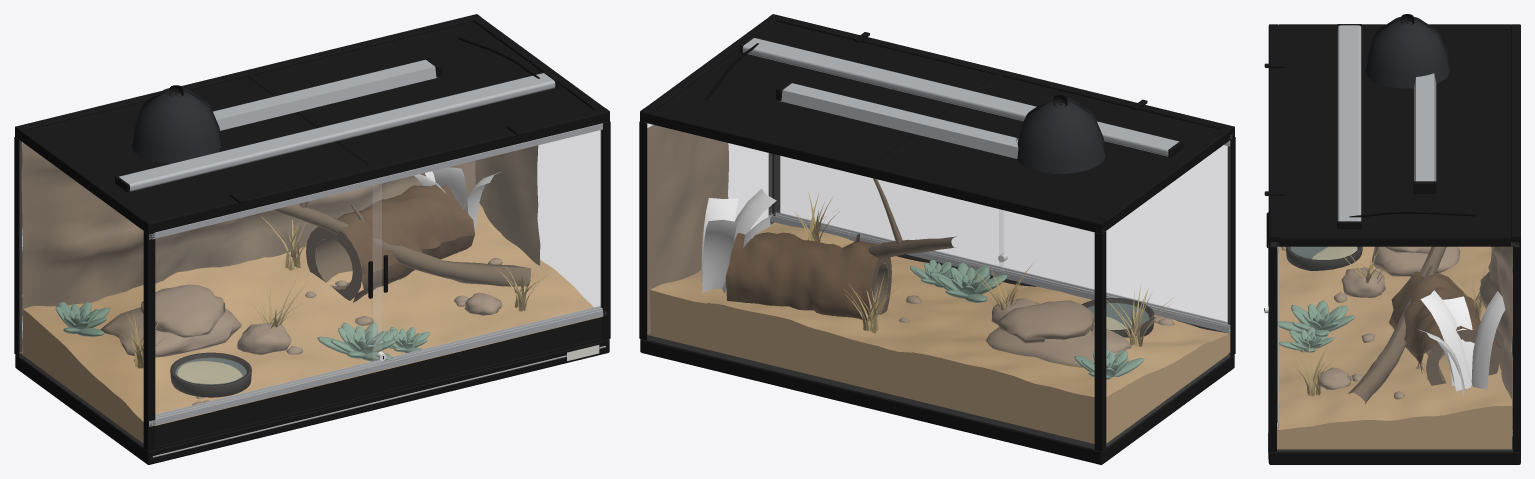
Rendered from terrarium_arid.glb.
3 views of the same model, side by side, from view 1: azimuth 30°, elevation 25°; view 2: azimuth 150°, elevation 25°; view 3: azimuth 270°, elevation 25° (orthographic). The views are drawn at different scales.
Parts seen in each view (by area): view 1: terrarium_arid__glass__noshadow, terrarium_arid__sand__noshadow, terrarium_arid__rock__noshadow, terrarium_arid__mesh_screen__noshadow, terrarium_arid__frame_black, terrarium_arid__aluminium, terrarium_arid__plastic_black, terrarium_arid__perforated__noshadow, terrarium_arid__cork__noshadow, terrarium_arid__bark__noshadow, terrarium_arid__steel_graphite, terrarium_arid__succulent__noshadow (+4 smaller); view 2: terrarium_arid__glass__noshadow, terrarium_arid__sand__noshadow, terrarium_arid__mesh_screen__noshadow, terrarium_arid__frame_black, terrarium_arid__rock__noshadow, terrarium_arid__aluminium, terrarium_arid__plastic_black, terrarium_arid__cork__noshadow, terrarium_arid__steel_graphite, terrarium_arid__leaf__noshadow, terrarium_arid__succulent__noshadow, terrarium_arid__grass_dry__noshadow (+4 smaller); view 3: terrarium_arid__glass__noshadow, terrarium_arid__mesh_screen__noshadow, terrarium_arid__sand__noshadow, terrarium_arid__frame_black, terrarium_arid__aluminium, terrarium_arid__rock__noshadow, terrarium_arid__plastic_black, terrarium_arid__steel_graphite, terrarium_arid__leaf__noshadow, terrarium_arid__cork__noshadow, terrarium_arid__bark__noshadow, terrarium_arid__succulent__noshadow (+4 smaller).
Part boxes in pixels (x1,y1,x2,y2): terrarium_arid__glass__noshadow: (19, 130, 601, 446); terrarium_arid__sand__noshadow: (23, 203, 602, 443); terrarium_arid__rock__noshadow: (21, 143, 540, 405); terrarium_arid__mesh_screen__noshadow: (30, 21, 593, 218); terrarium_arid__frame_black: (14, 14, 610, 451); terrarium_arid__aluminium: (119, 59, 605, 457); terrarium_arid__plastic_black: (15, 57, 609, 464); terrarium_arid__perforated__noshadow: (155, 317, 602, 446); terrarium_arid__cork__noshadow: (337, 184, 474, 302); terrarium_arid__bark__noshadow: (271, 201, 530, 300); terrarium_arid__steel_graphite: (130, 88, 222, 163); terrarium_arid__succulent__noshadow: (55, 301, 429, 361); terrarium_arid__glass__noshadow: (647, 123, 1231, 448); terrarium_arid__sand__noshadow: (648, 222, 1230, 443); terrarium_arid__mesh_screen__noshadow: (656, 21, 1219, 218); terrarium_arid__frame_black: (639, 14, 1235, 451); terrarium_arid__rock__noshadow: (647, 125, 1174, 367); terrarium_arid__aluminium: (742, 38, 1230, 332); terrarium_arid__plastic_black: (640, 32, 1234, 464); terrarium_arid__cork__noshadow: (725, 232, 879, 320); terrarium_arid__steel_graphite: (1016, 98, 1106, 174); terrarium_arid__leaf__noshadow: (701, 188, 776, 293); terrarium_arid__succulent__noshadow: (910, 259, 1144, 379); terrarium_arid__grass_dry__noshadow: (794, 192, 1174, 346); terrarium_arid__glass__noshadow: (1272, 243, 1518, 450); terrarium_arid__mesh_screen__noshadow: (1279, 30, 1510, 233); terrarium_arid__sand__noshadow: (1277, 246, 1511, 449); terrarium_arid__frame_black: (1268, 24, 1520, 451); terrarium_arid__aluminium: (1268, 25, 1436, 456); terrarium_arid__rock__noshadow: (1281, 246, 1512, 436); terrarium_arid__plastic_black: (1264, 14, 1520, 464); terrarium_arid__steel_graphite: (1364, 17, 1450, 88); terrarium_arid__leaf__noshadow: (1417, 290, 1505, 396); terrarium_arid__cork__noshadow: (1388, 271, 1500, 373); terrarium_arid__bark__noshadow: (1348, 246, 1499, 404); terrarium_arid__succulent__noshadow: (1277, 300, 1355, 352).
Size of the model in its own units: 1 by 0.626 by 0.5095.
